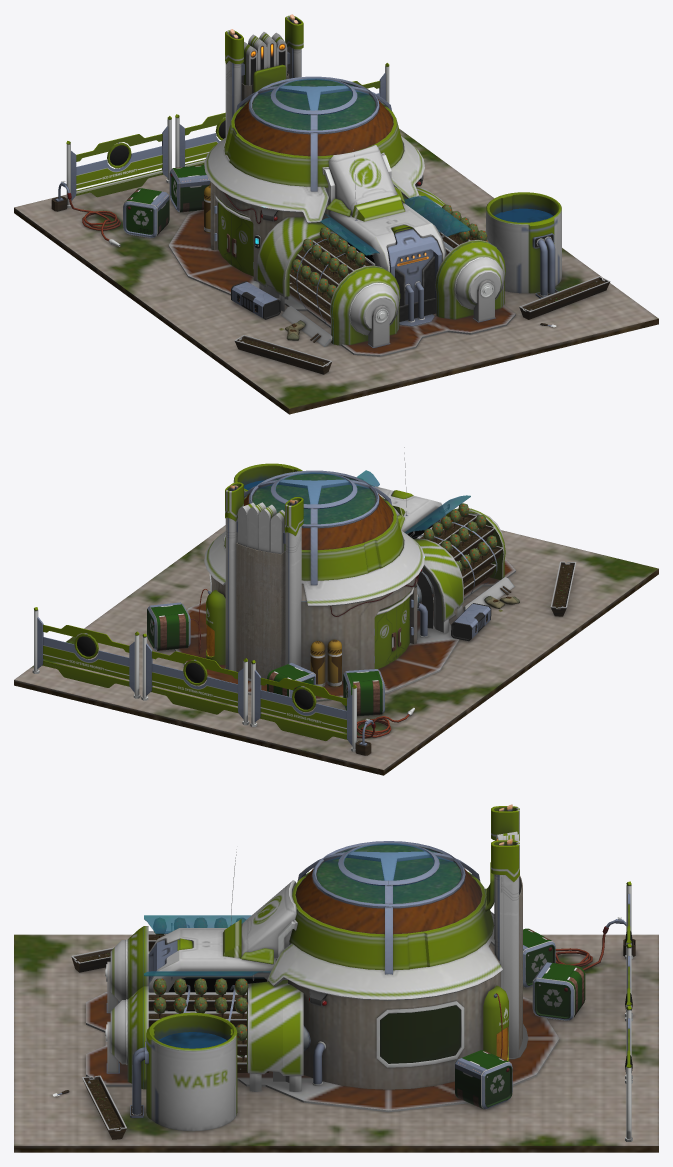
File: green_factory.glb
3 renders of one model, top to bottom at view 1: azimuth 30°, elevation 25°; view 2: azimuth 150°, elevation 25°; view 3: azimuth 270°, elevation 25°, orthographic. The views are drawn at different scales.
Parts seen in each view (by area): view 1: PlaneGround_low, Plane.001Ground_low, Flower (×4), Main3_low.002, Main2_low.004, Tank_low, Main2_low.014, Main2_low.002, Main6_low.013, Main3_low.001, Main1_low.007, Main2_low.001 (+30 smaller); view 2: PlaneGround_low, Pipes_low, Main1_low.006, Plane.001Ground_low, Main2_low.004, Pipes_low.001, Main2_low.014, Main6_low.013, Flower (×3), Stuff (×3), Main2_low.002, Main3_low.001 (+34 smaller); view 3: PlaneGround_low, Main1_low.006, Tank_low, Plane.001Ground_low, Main2_low.014, Main2_low.004, Main2_low.002, Main3_low.001, Main6_low.013, Main2_low.001, Flower (×4), Pipes_low.001 (+23 smaller).
Boxes of the visible parts, left/top/right/bottom form: PlaneGround_low: left=14, top=128, right=658, bottom=414; Plane.001Ground_low: left=168, top=210, right=515, bottom=356; Flower (×4): left=234, top=212, right=610, bottom=374; Main3_low.002: left=329, top=240, right=505, bottom=345; Main2_low.004: left=204, top=136, right=424, bottom=223; Tank_low: left=486, top=192, right=561, bottom=293; Main2_low.014: left=224, top=102, right=403, bottom=187; Main2_low.002: left=234, top=99, right=393, bottom=156; Main6_low.013: left=252, top=80, right=375, bottom=130; Main3_low.001: left=256, top=187, right=445, bottom=296; Main1_low.007: left=350, top=258, right=504, bottom=335; Main2_low.001: left=327, top=202, right=446, bottom=271; PlaneGround_low: left=14, top=525, right=658, bottom=775; Pipes_low: left=236, top=542, right=285, bottom=678; Main1_low.006: left=211, top=575, right=417, bottom=682; Plane.001Ground_low: left=174, top=559, right=515, bottom=701; Main2_low.004: left=204, top=530, right=424, bottom=606; Pipes_low.001: left=225, top=517, right=301, bottom=671; Main2_low.014: left=224, top=496, right=403, bottom=580; Main6_low.013: left=252, top=474, right=375, bottom=524; Flower (×3): left=417, top=514, right=573, bottom=610; Stuff (×3): left=310, top=603, right=491, bottom=687; Main2_low.002: left=244, top=494, right=393, bottom=549; Main3_low.001: left=413, top=538, right=463, bottom=621; PlaneGround_low: left=14, top=934, right=658, bottom=1152; Main1_low.006: left=288, top=936, right=500, bottom=1089; Tank_low: left=146, top=1012, right=237, bottom=1131; Plane.001Ground_low: left=86, top=992, right=559, bottom=1112; Main2_low.014: left=289, top=871, right=493, bottom=970; Main2_low.004: left=267, top=911, right=502, bottom=1000; Main2_low.002: left=295, top=868, right=482, bottom=934; Main3_low.001: left=247, top=980, right=303, bottom=1075; Main6_low.013: left=316, top=845, right=461, bottom=903; Main2_low.001: left=149, top=928, right=287, bottom=1055; Flower (×4): left=71, top=931, right=269, bottom=1139; Pipes_low.001: left=494, top=840, right=518, bottom=1057.
Bounding box in the file's own units: 12.62 × 6.26 × 16.27.
Materials: 1 (1 with a texture image).
